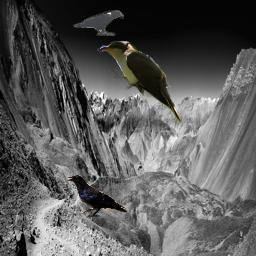Crow: (67, 175, 128, 217), (73, 10, 124, 36)
Cuckoo: (97, 41, 180, 124)
